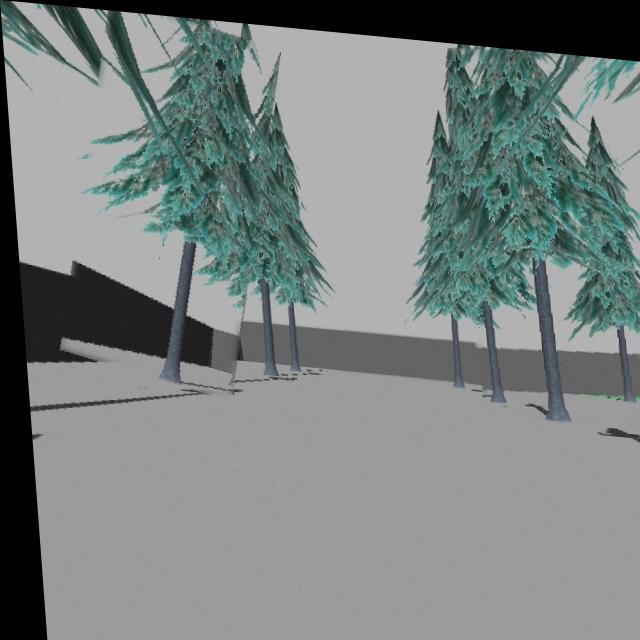tree: (78, 14, 258, 382), (462, 39, 624, 411)
